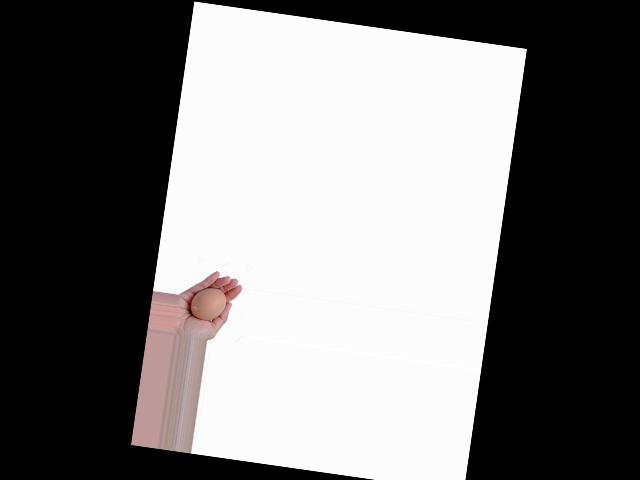egg: (189, 285, 227, 322)
